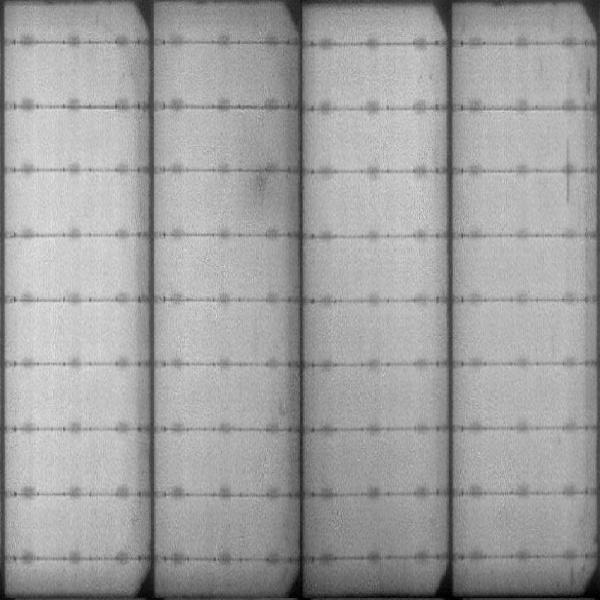scratch: (561, 135, 576, 212), (582, 63, 595, 101)
